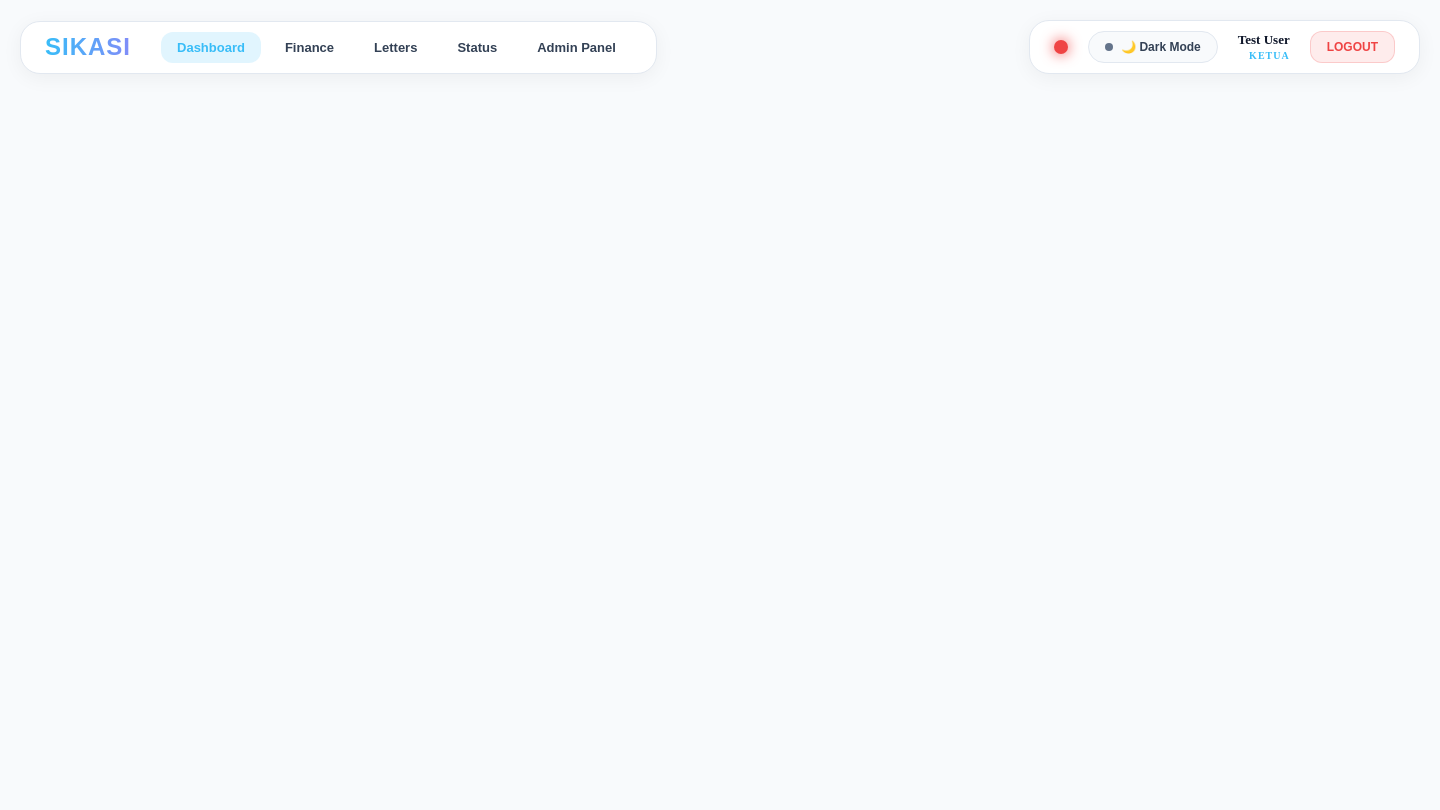
it: Header Component › menampilkan modal logout
Click the button "LOGOUT" at (1352, 47), box [1310,31,1395,63]
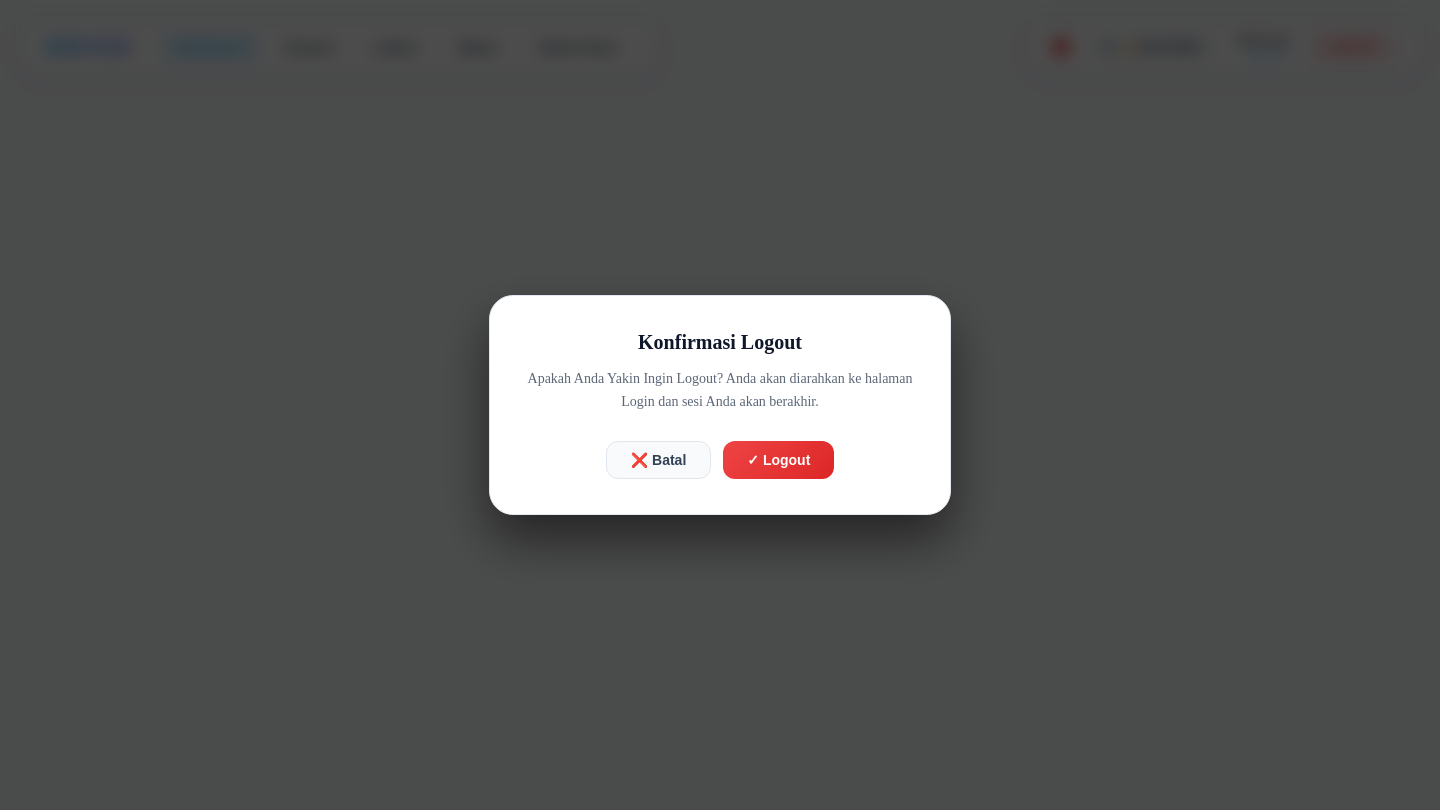
Now the text "Apakah Anda Yakin Ingin Logout" is shown, box [528,371,912,408]
